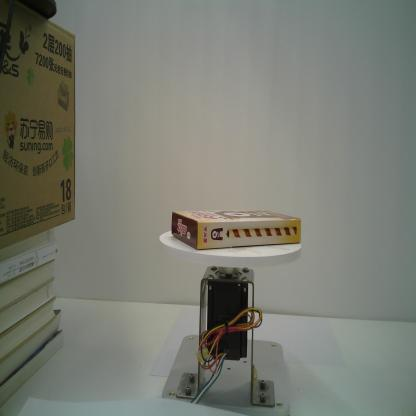Dessert: (171, 206, 303, 252)
